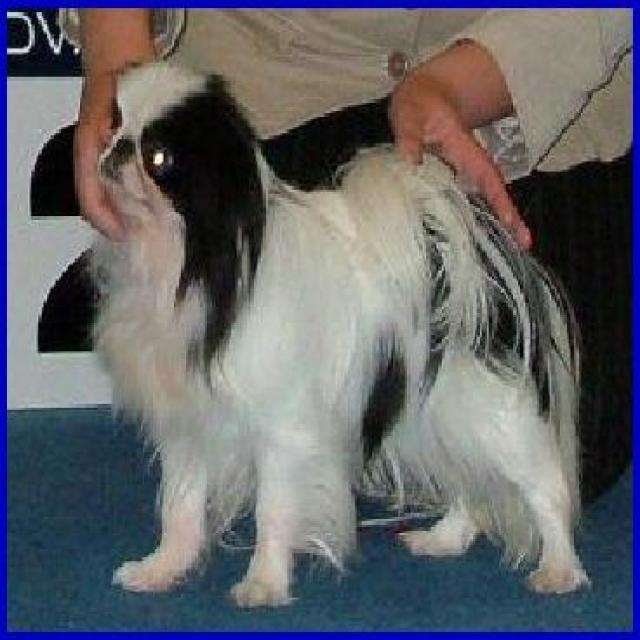husky: (89, 52, 598, 614)
